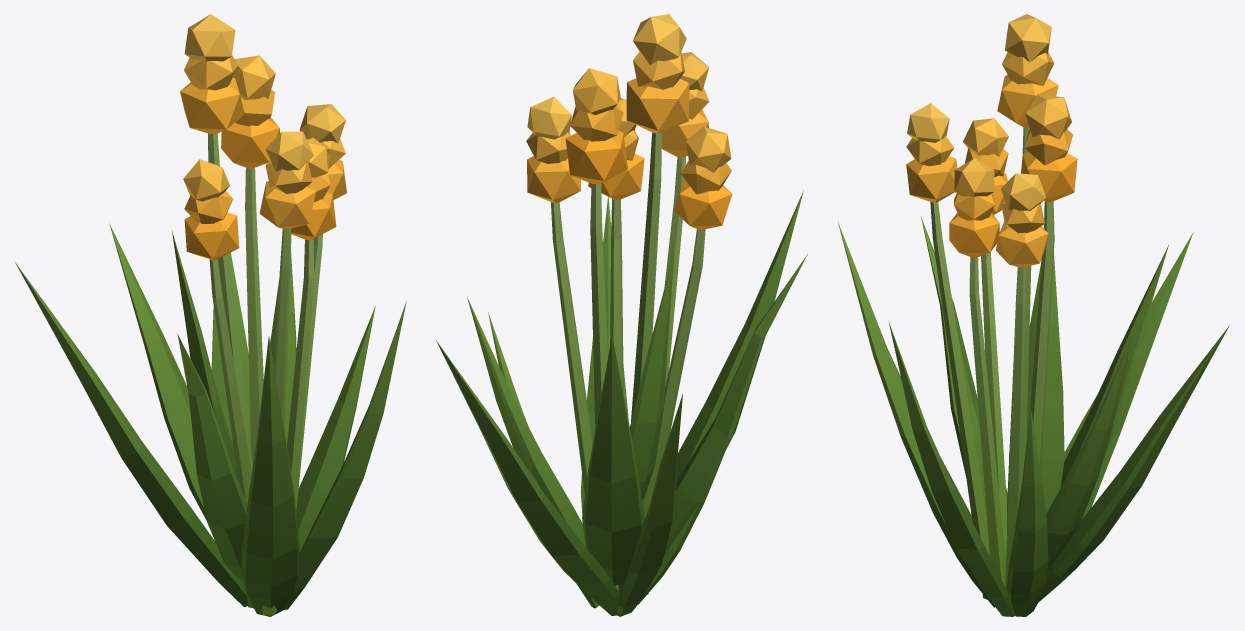
File: flowers.glb
3 renders of one model, left to right at view 1: azimuth 30°, elevation 25°; view 2: azimuth 150°, elevation 25°; view 3: azimuth 270°, elevation 25°, orthographic. The views are drawn at different scales.
Parts seen in each view (by area): view 1: flowers; view 2: flowers; view 3: flowers.
Part boxes in pixels (<box>): flowers: <box>14,14,406,616</box>; flowers: <box>436,14,807,616</box>; flowers: <box>838,14,1229,616</box>.
Size of the model in its own units: 1.05 by 2.17 by 1.36.
Materials: 1 (1 with a texture image).
